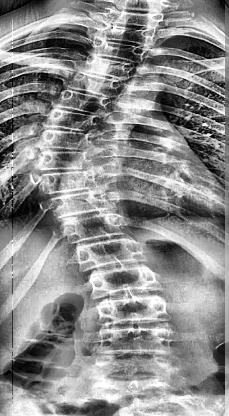Vertebrae: (99, 320, 177, 360), (89, 262, 158, 296), (74, 238, 142, 270), (94, 296, 172, 323), (56, 213, 124, 243), (56, 89, 110, 117), (36, 170, 97, 194), (38, 195, 104, 217), (91, 36, 145, 62), (44, 107, 100, 132), (66, 74, 124, 98), (37, 126, 95, 150), (36, 150, 96, 172), (79, 58, 135, 80), (106, 25, 156, 47)
